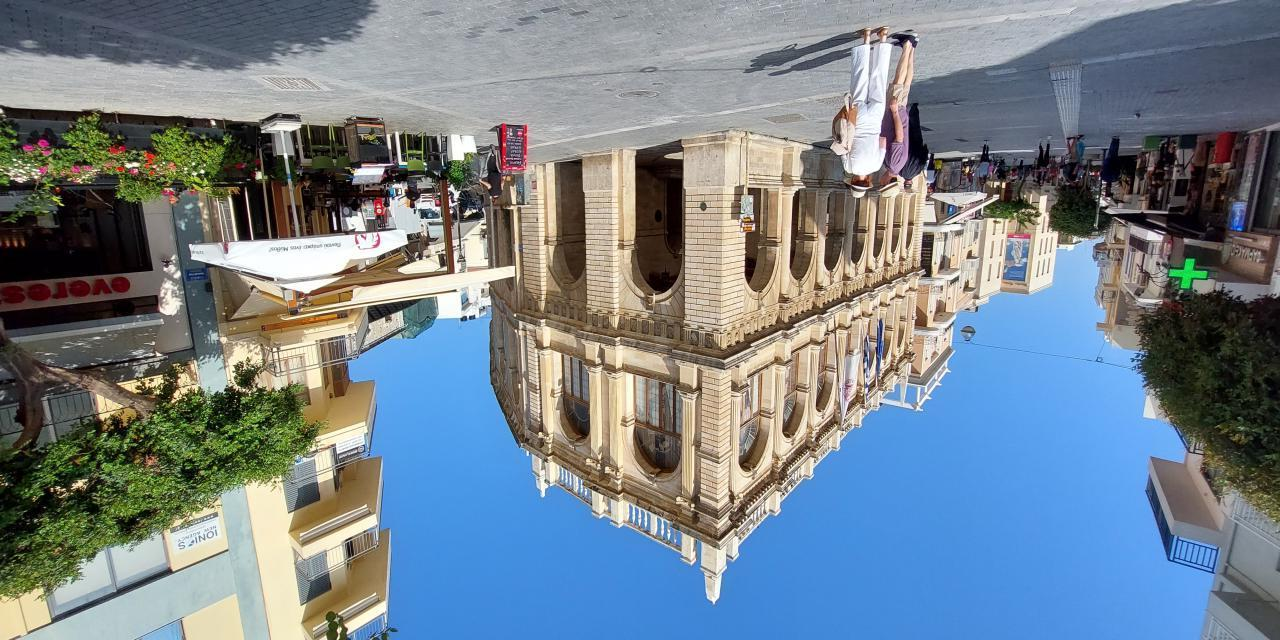Loggia: (488, 122, 928, 610)
